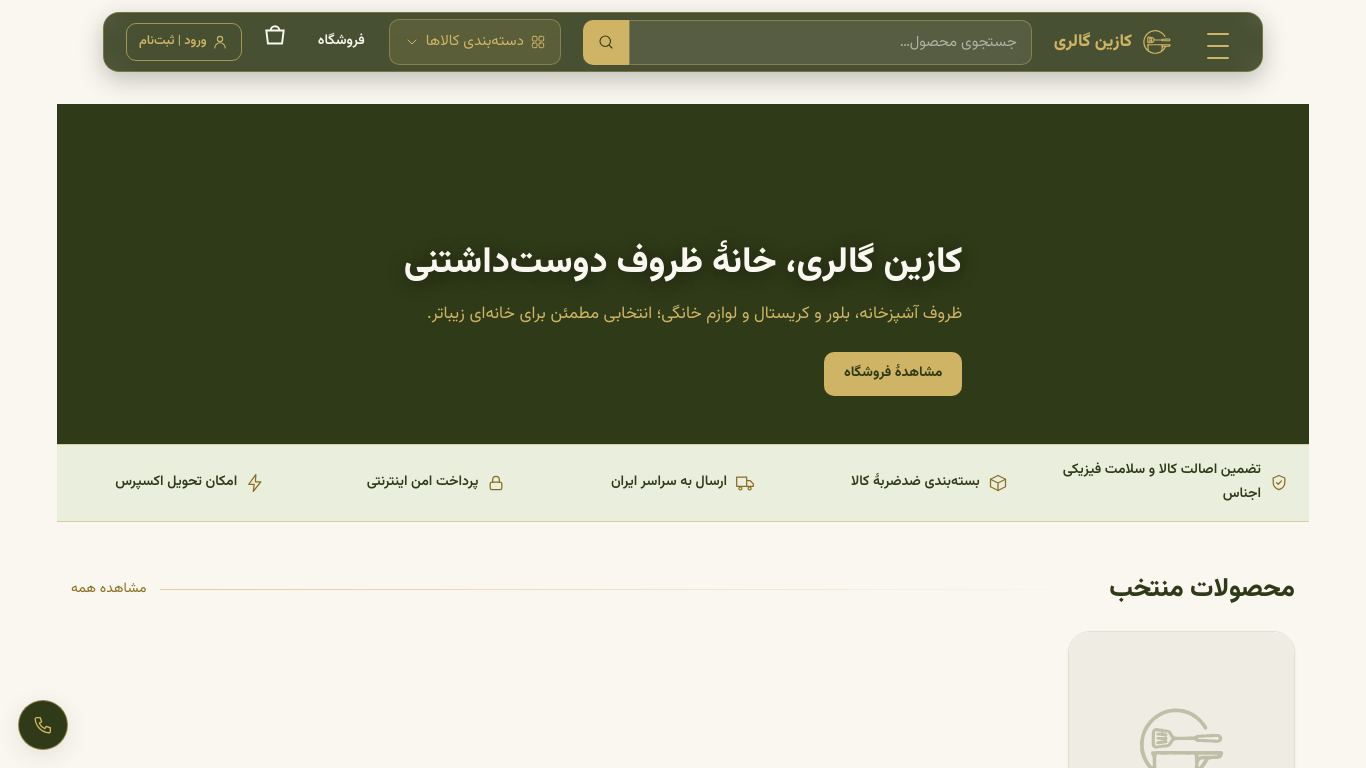
Test case: full-viewport overlays while the page is scrolled › renders the mini-cart drawer outside the header, as a child of body
(page scrolled)
Expected: the header with class "site-header--compact" is shown, [103,12,1263,72]
Click the button with class "cart-link": [275, 42] box [256,17,294,67]
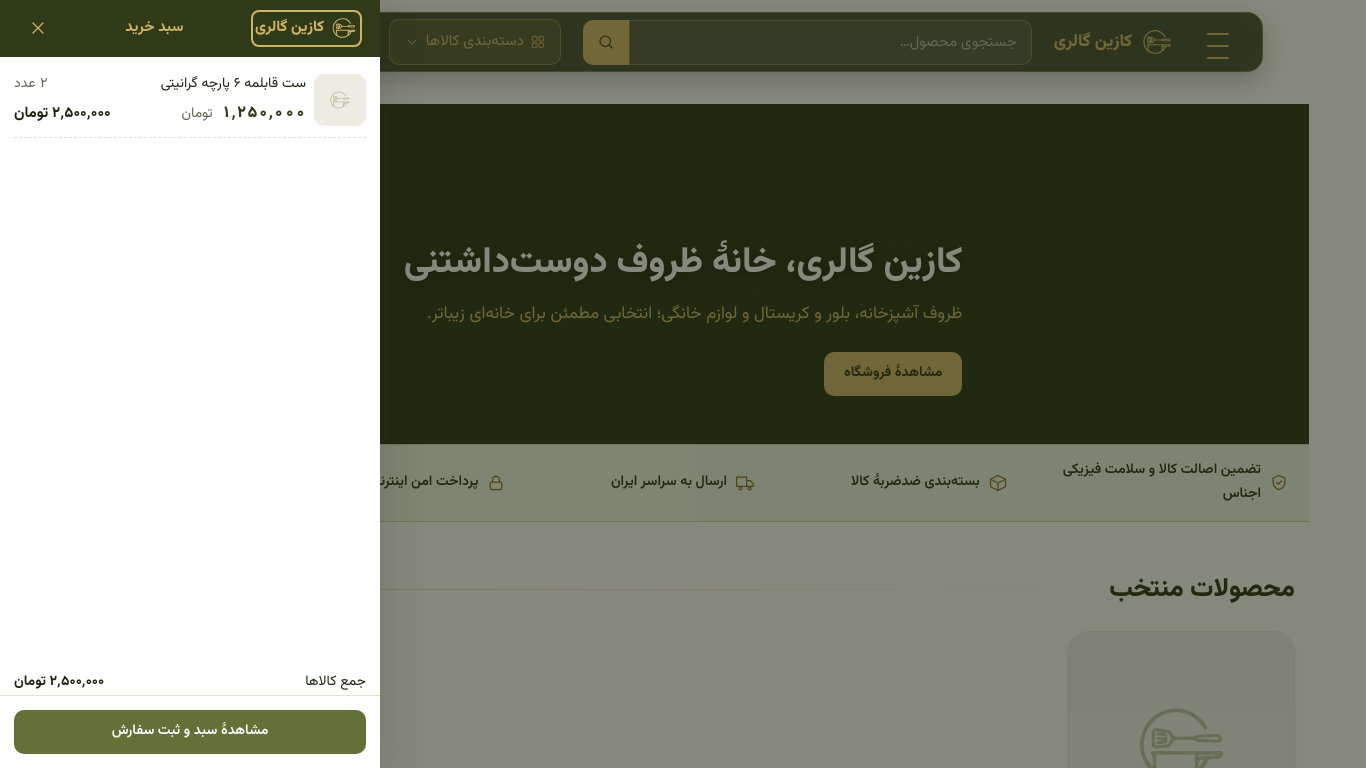
Now the dialog with class "minicart" is shown
Now the element with class "minicart__backdrop" is shown
Now the element with class "minicart__panel" is shown, box [0,0,380,767]
